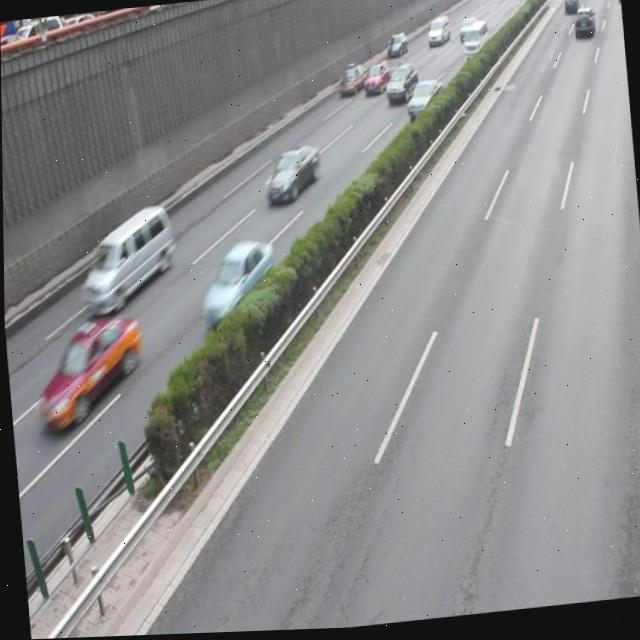car: (31, 310, 145, 429), (197, 238, 278, 324), (259, 143, 323, 208), (403, 78, 444, 123), (382, 64, 418, 109), (138, 626, 225, 636)
truck: (73, 199, 178, 314)
